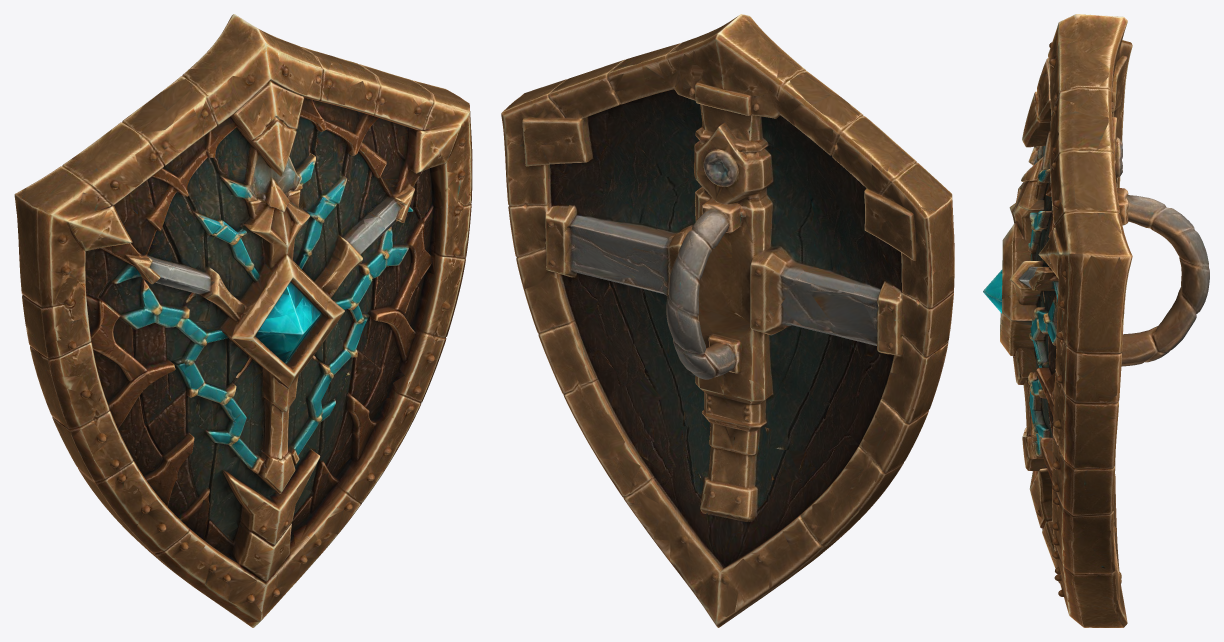
File: aegis-of-the-azure.glb
The picture shows the model from 3 angles, left to right: view 1: azimuth 30°, elevation 25°; view 2: azimuth 150°, elevation 25°; view 3: azimuth 270°, elevation 25°; orthographic projection. The views are drawn at different scales.
Visible parts, largest first — view 1: shield-runtime; view 2: shield-runtime; view 3: shield-runtime.
Part boxes in pixels (left/top/right/bottom): shield-runtime: left=14, top=14, right=472, bottom=627; shield-runtime: left=501, top=14, right=954, bottom=627; shield-runtime: left=983, top=14, right=1209, bottom=627.
Size of the model in its own units: 1.43 by 1.9 by 0.6372.
1 material, 1 textured.
